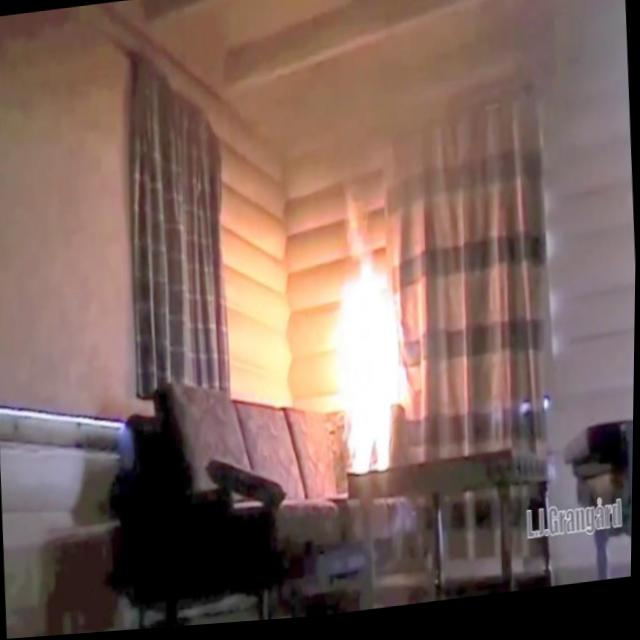fire: (321, 247, 418, 506)
